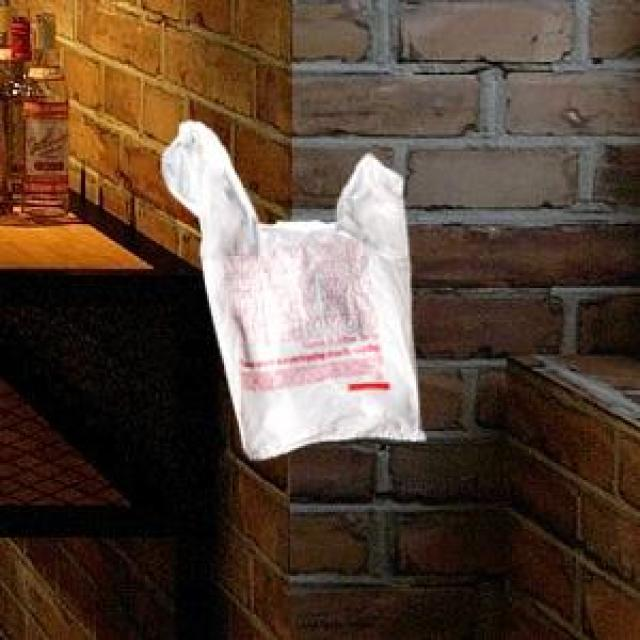waste: (162, 120, 425, 459)
